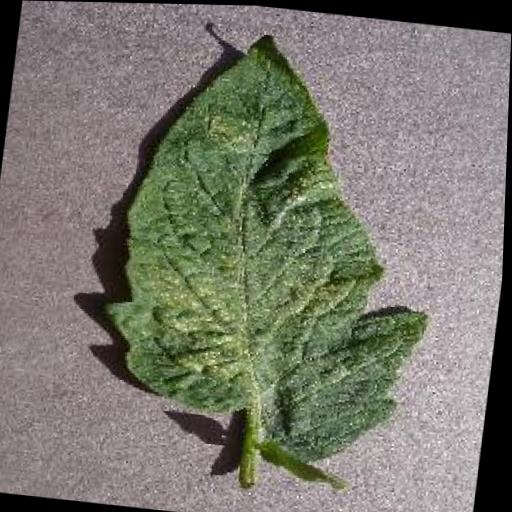Spider Mites: (88, 28, 459, 471)
